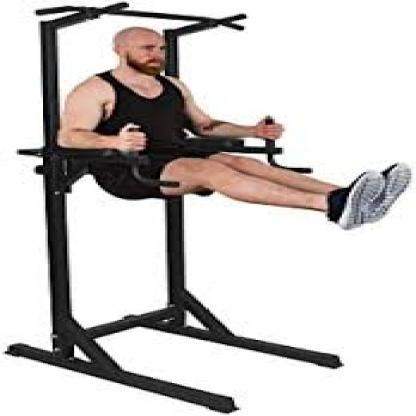chinning dipping: (9, 1, 343, 413)
